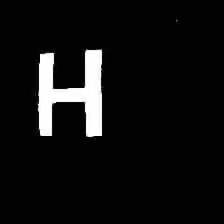LTR_H: (30, 42, 107, 141)
